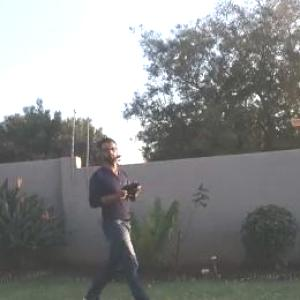follow: (80, 127, 164, 299)
